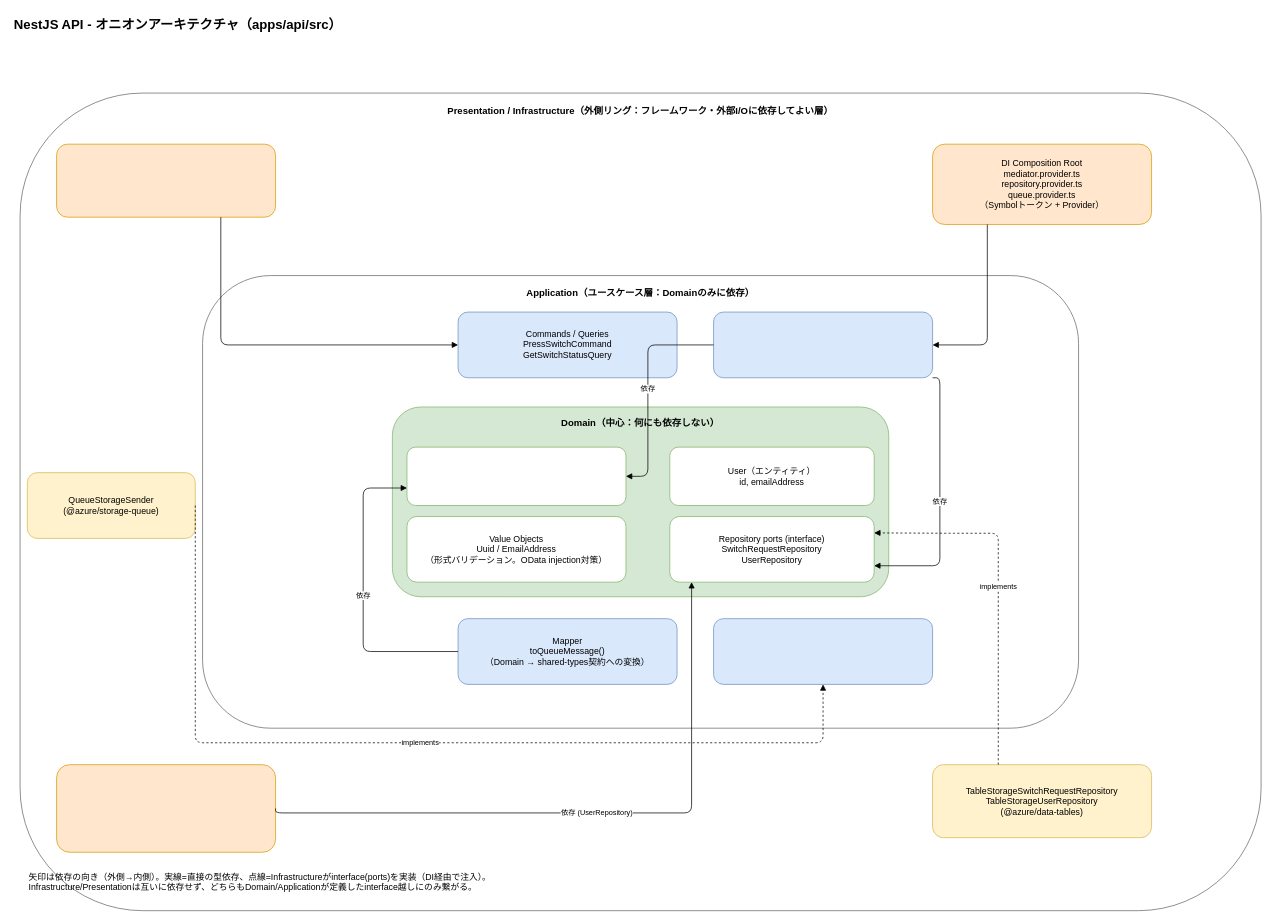
This 1274x923 diagram has some shape labels left out. The box of each missing label's shape, as (x1, y1, x2, y2) in pixels:
Controller SwitchController (@UseGuards): (56, 143, 276, 217)
Guards EntraIdAuthGuard (JWT検証, JWKS) RegisteredUserGuard (allowlist照合): (56, 764, 276, 852)
Handlers PressSwitchCommandHandler GetSwitchStatusQueryHandler: (713, 311, 933, 378)
Ports SwitchQueueSender (interface): (713, 618, 933, 684)
SwitchRequest（エンティティ） requestId, executorId, action, status, issuedAt, updatedAt: (406, 446, 626, 506)
